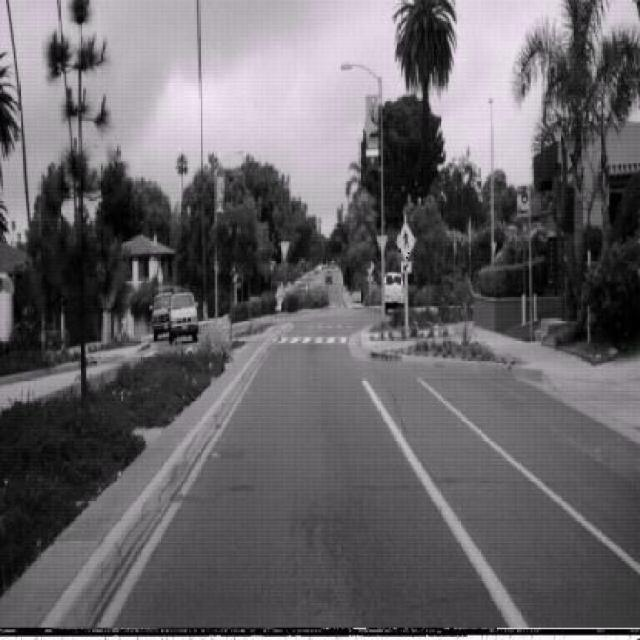pedestrianCrossing: (395, 218, 417, 262)
yield: (375, 234, 388, 256), (278, 239, 290, 261)
